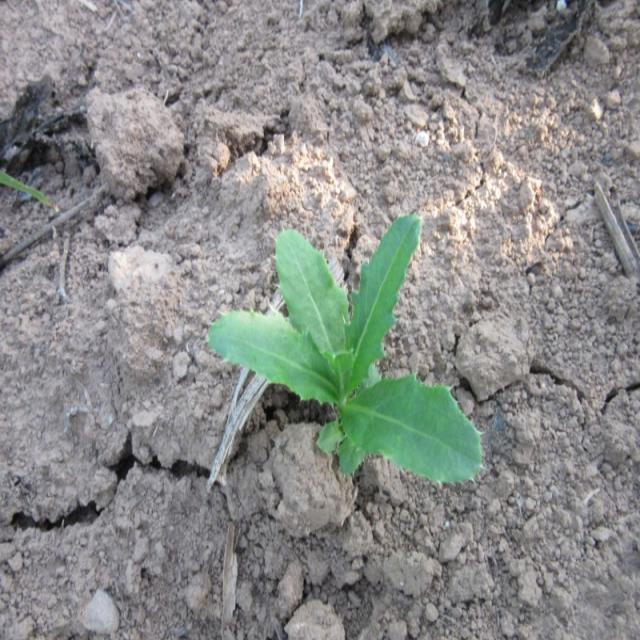cs: (206, 210, 486, 492)
